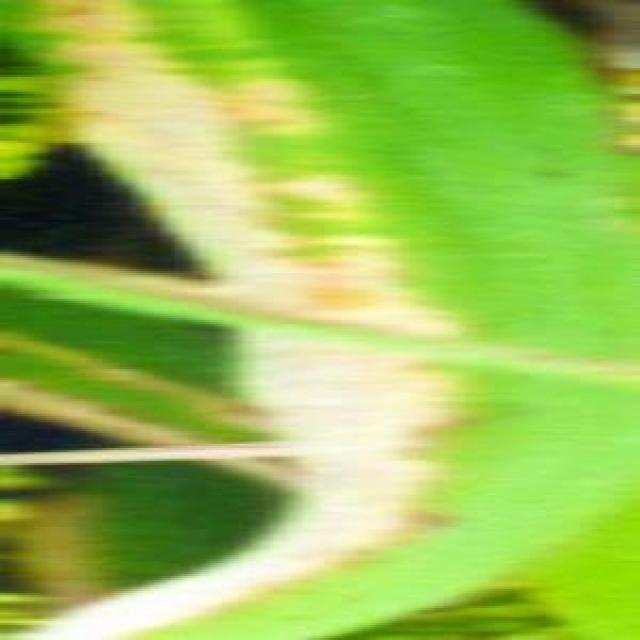Bacterial_Blight: (15, 0, 469, 640)
